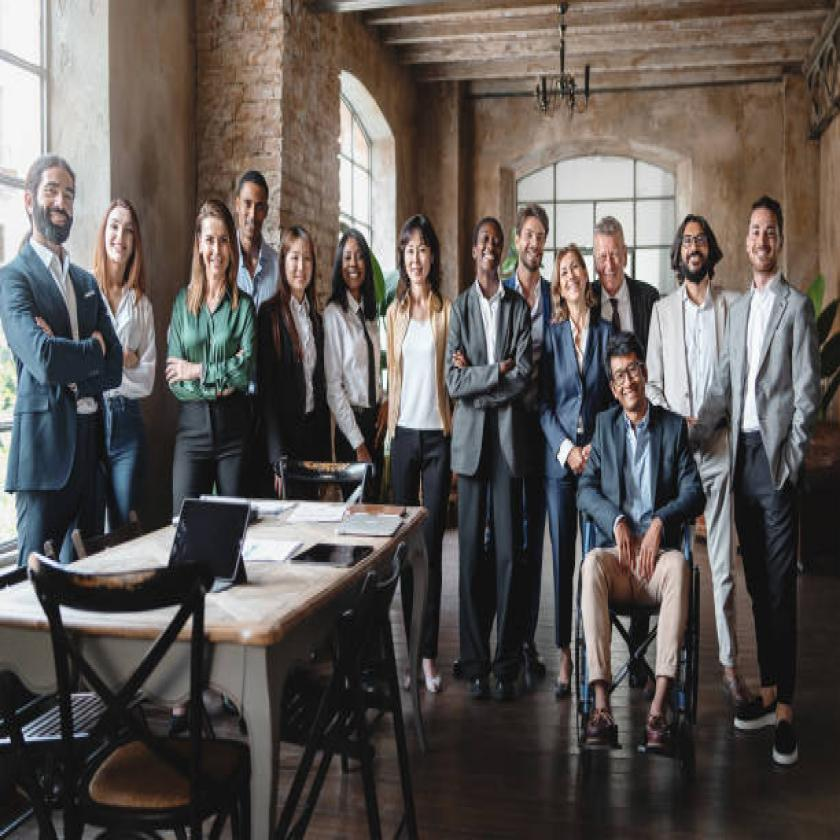Sin_casco: (22, 135, 87, 258), (92, 178, 158, 292), (738, 177, 805, 284), (179, 195, 240, 301), (666, 195, 725, 303), (386, 201, 446, 301), (508, 176, 557, 288), (603, 333, 659, 424), (232, 158, 280, 258), (589, 201, 640, 295), (335, 208, 374, 328), (550, 232, 593, 320), (273, 225, 322, 301), (473, 212, 511, 292)
